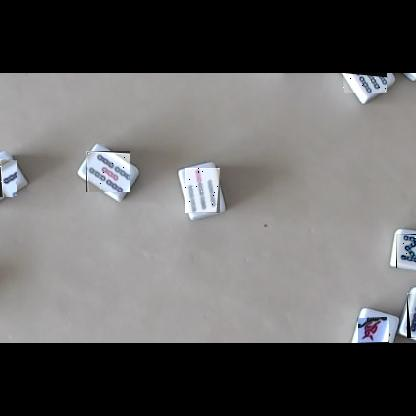1s: (357, 317, 389, 343)
5s: (86, 151, 130, 192), (0, 159, 17, 197)
6s: (343, 73, 387, 93)
7s: (185, 168, 220, 213)
8s: (396, 234, 416, 268), (407, 293, 416, 338)
